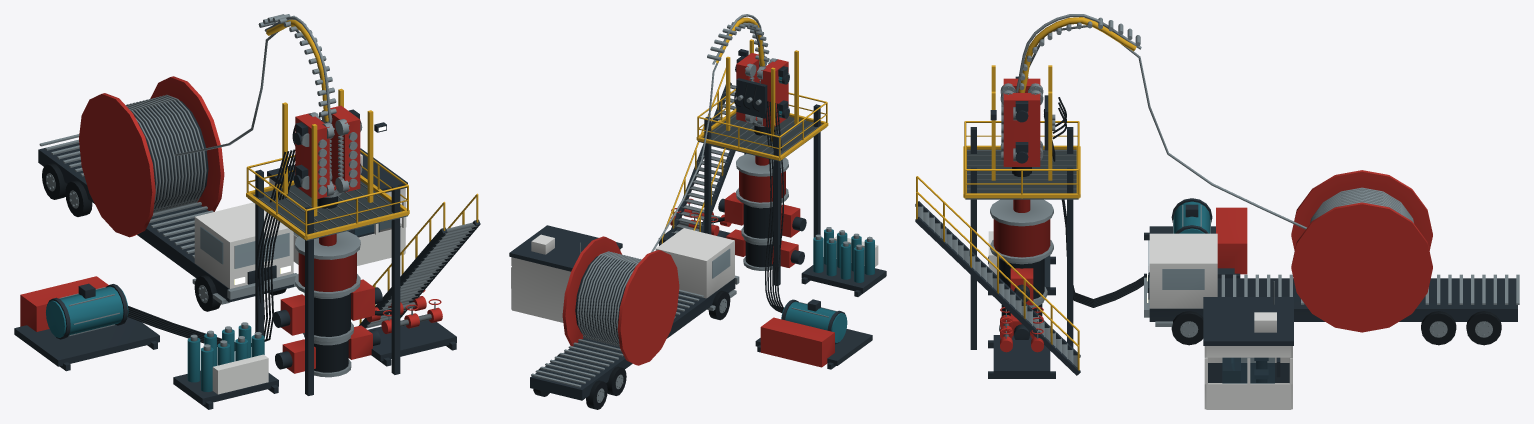
Rendered from coiled_tubing_lodm.glb.
3 renders of one model, left to right at view 1: azimuth 30°, elevation 25°; view 2: azimuth 150°, elevation 25°; view 3: azimuth 270°, elevation 25°, orthographic. The views are drawn at different scales.
Visible parts, largest first — view 1: reel_surface_red, reel_trailer_surface_white, reel_surface_steel, support_frame_surface_dark, power_pack_surface_dark, reel_trailer_surface_dark, hydraulic_hoses_surface_rubber, reel_trailer_surface_steel, injector_head_surface_red, support_frame_surface_deck, support_frame_surface_yellow, reel_surface_dark (+29 smaller); view 2: reel_surface_red, reel_surface_steel, reel_trailer_surface_white, reel_trailer_surface_dark, control_cabin_surface_white, support_frame_surface_dark, power_pack_surface_red, reel_trailer_surface_steel, accumulator_surface_blue, control_cabin_surface_dark, reel_surface_dark, support_frame_surface_yellow (+26 smaller); view 3: reel_surface_red, control_cabin_surface_dark, reel_trailer_surface_dark, reel_trailer_surface_white, control_cabin_surface_white, support_frame_surface_deck, reel_trailer_surface_steel, support_frame_surface_dark, injector_head_surface_red, stairs_surface_dark, reel_trailer_surface_rubber, support_frame_surface_yellow (+21 smaller).
Part boxes in pixels (x1=…): reel_surface_red: x1=79, y1=76, x2=224, y2=237; reel_trailer_surface_white: x1=194, y1=202, x2=293, y2=288; reel_surface_steel: x1=125, y1=94, x2=206, y2=212; support_frame_surface_dark: x1=255, y1=169, x2=400, y2=395; power_pack_surface_dark: x1=14, y1=283, x2=159, y2=371; reel_trailer_surface_dark: x1=38, y1=143, x2=293, y2=302; hydraulic_hoses_surface_rubber: x1=127, y1=149, x2=295, y2=350; reel_trailer_surface_steel: x1=39, y1=134, x2=297, y2=304; injector_head_surface_red: x1=295, y1=105, x2=360, y2=198; support_frame_surface_deck: x1=248, y1=180, x2=407, y2=240; support_frame_surface_yellow: x1=246, y1=150, x2=409, y2=240; reel_surface_dark: x1=133, y1=100, x2=208, y2=209; reel_surface_red: x1=562, y1=236, x2=679, y2=365; reel_surface_steel: x1=577, y1=251, x2=641, y2=346; reel_trailer_surface_white: x1=655, y1=228, x2=734, y2=298; reel_trailer_surface_dark: x1=530, y1=278, x2=735, y2=400; control_cabin_surface_white: x1=511, y1=234, x2=620, y2=322; support_frame_surface_dark: x1=704, y1=104, x2=820, y2=285; power_pack_surface_red: x1=760, y1=317, x2=834, y2=367; reel_trailer_surface_steel: x1=531, y1=275, x2=739, y2=402; accumulator_surface_blue: x1=813, y1=229, x2=874, y2=282; control_cabin_surface_dark: x1=509, y1=225, x2=622, y2=271; reel_surface_dark: x1=575, y1=256, x2=635, y2=343; support_frame_surface_yellow: x1=696, y1=88, x2=828, y2=160; reel_surface_red: x1=1291, y1=170, x2=1432, y2=332; control_cabin_surface_dark: x1=1203, y1=297, x2=1293, y2=382; reel_trailer_surface_dark: x1=1148, y1=275, x2=1517, y2=321; reel_trailer_surface_white: x1=1149, y1=233, x2=1217, y2=308; control_cabin_surface_white: x1=1204, y1=312, x2=1292, y2=409; support_frame_surface_deck: x1=965, y1=149, x2=1078, y2=199; reel_trailer_surface_steel: x1=1144, y1=274, x2=1519, y2=337; support_frame_surface_dark: x1=970, y1=127, x2=1073, y2=349; injector_head_surface_red: x1=1003, y1=78, x2=1040, y2=166; stairs_surface_dark: x1=915, y1=201, x2=1080, y2=375; reel_trailer_surface_rubber: x1=1171, y1=311, x2=1501, y2=345; support_frame_surface_yellow: x1=963, y1=121, x2=1080, y2=198.
Size of the model in its own units: 14.85 by 12.35 by 21.33.
